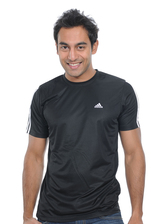clothoes: (32, 69, 146, 219)
